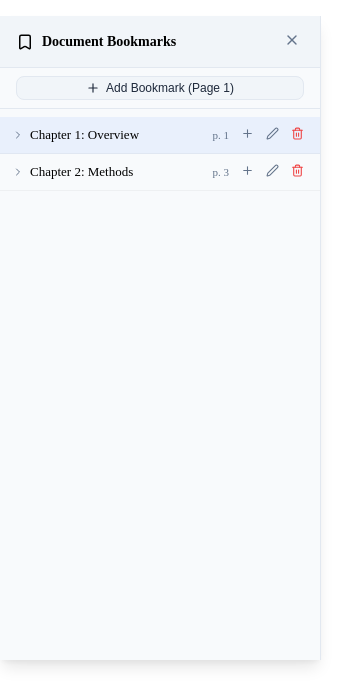
Test: Phase 13 UI Integration: Page Management, Bookmarks, and Conversion › Task 13.13: BookmarksPanel › renders bookmarks list, triggers jump on click, adds and deletes bookmarks
Later steps or results of the test are not shown.
Click the element with test id "bookmark-jump-bm2": point(124, 172) [12, 164, 237, 180]
Click the button with test id "add-bookmark-btn": point(160, 88) [16, 76, 304, 100]
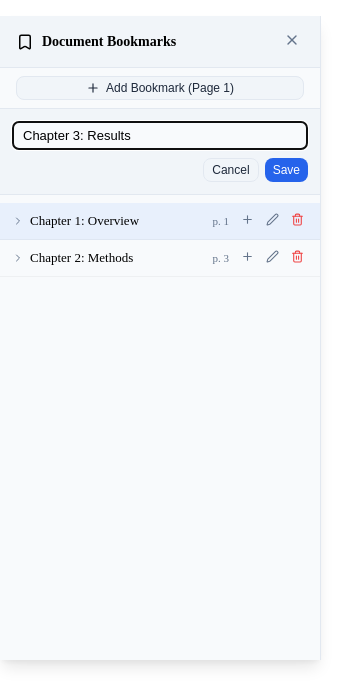
Now the element with test id "add-bookmark-form" is shown, box [0, 109, 320, 195]
